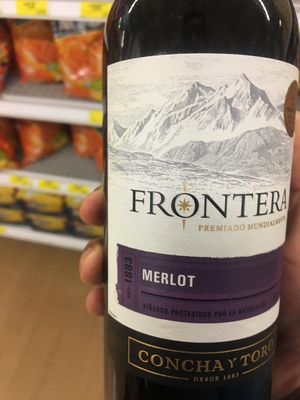frontera merlot: (92, 1, 300, 398)
